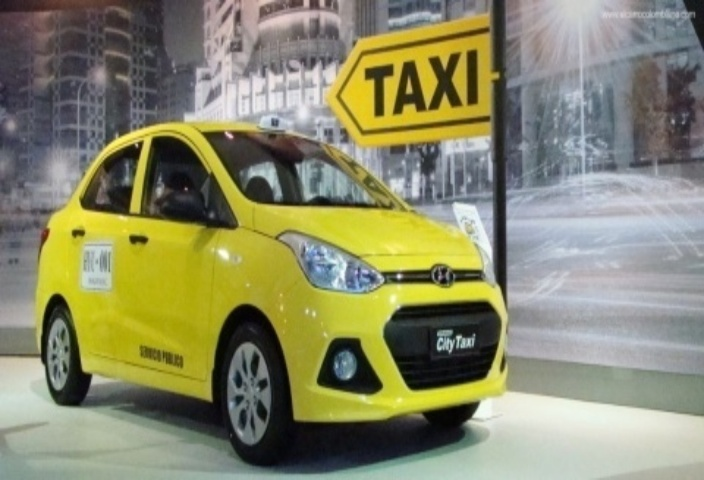taxi: (22, 102, 585, 458)
